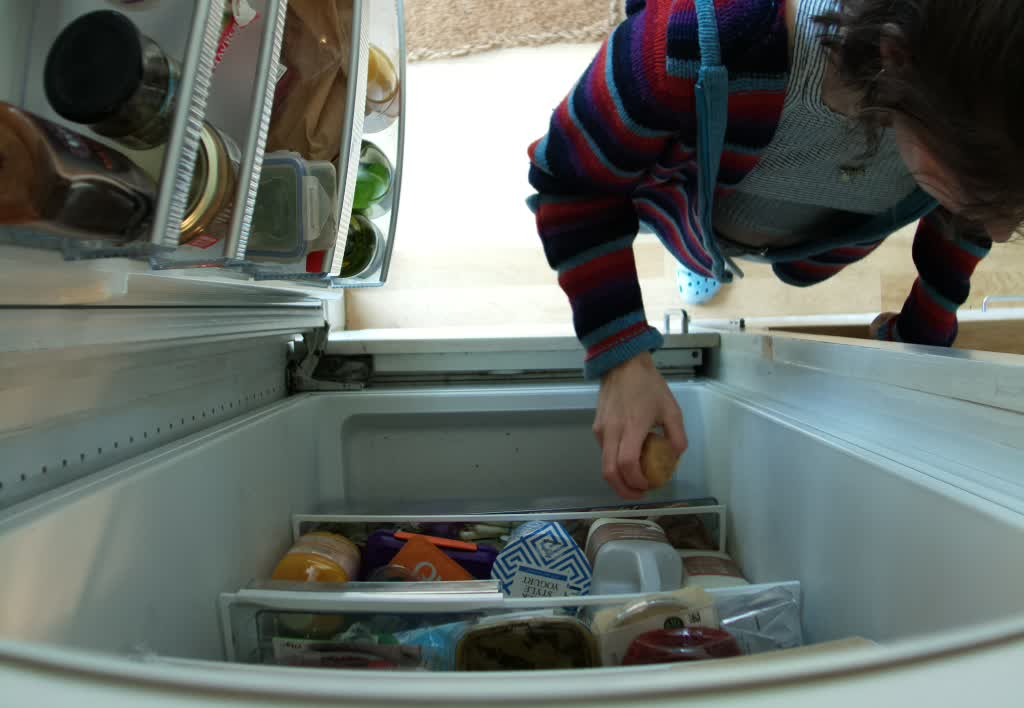potatoes: (640, 433, 682, 494)
